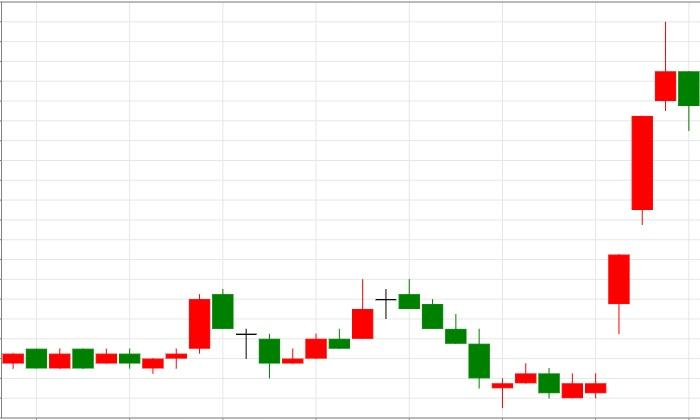three_white_soldiers_rise: (398, 115, 654, 409)
